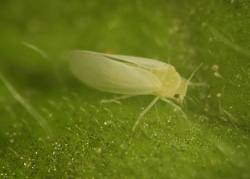whitefly: (65, 46, 206, 127)
